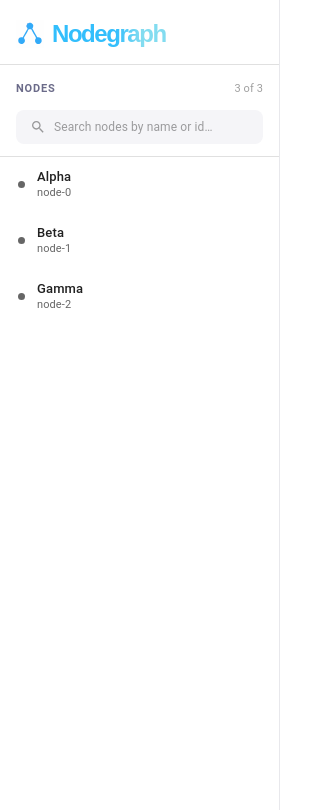
Scenario: SidePanel component › search › should filter nodes by id
Type "node-2" into the field with placeholder "Search nodes by name or id…". click: point(158, 127)
box: top-left (54, 110), bottom-right (263, 144)
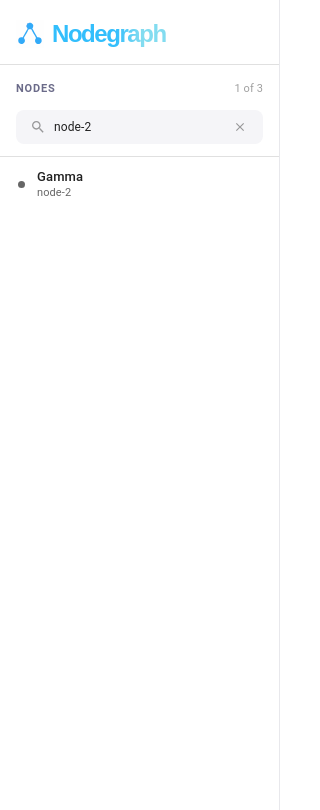
Check: the text "Gamma" is shown, box top-left (37, 169), bottom-right (83, 184)
Check: the option "Alpha" is gone
